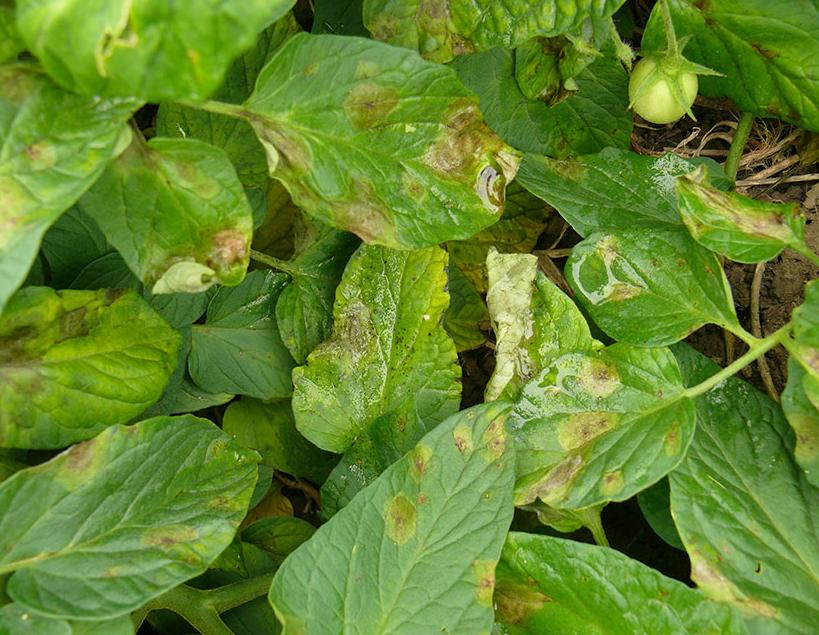Tomato leaf late blight: (204, 354, 542, 635), (245, 17, 517, 265), (0, 397, 267, 619), (305, 223, 497, 485), (482, 329, 716, 523), (78, 97, 265, 333), (0, 271, 193, 460), (559, 219, 754, 359), (660, 150, 811, 272)
